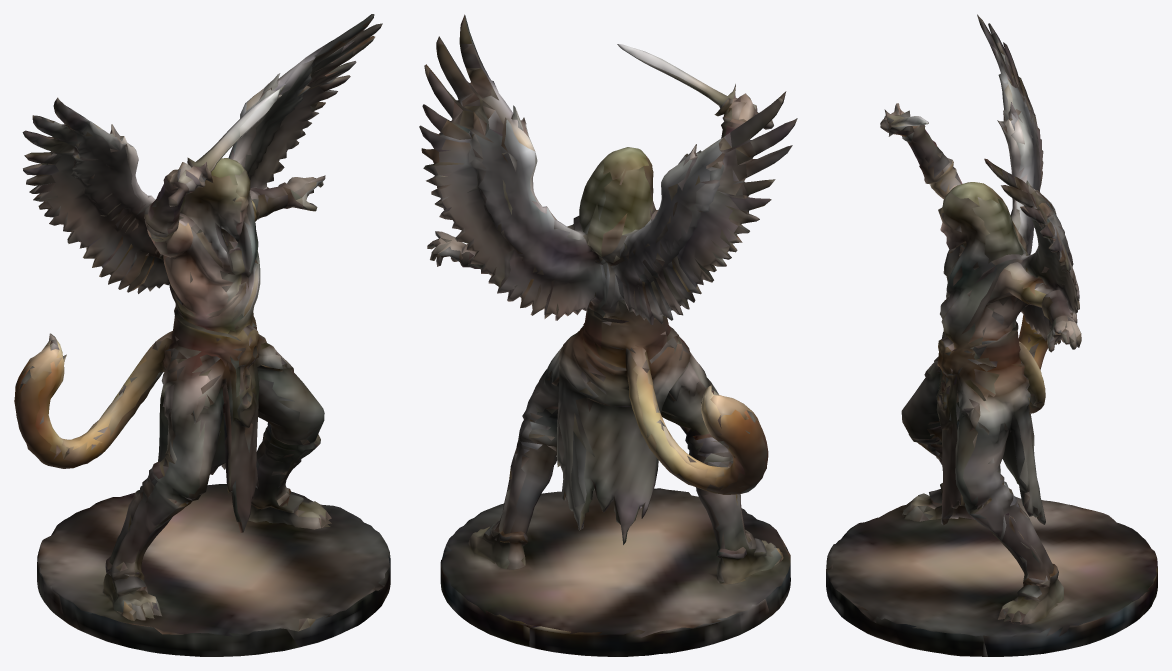
Rendered from Userib_final.glb.
The picture shows the model from 3 angles, left to right: view 1: azimuth 30°, elevation 25°; view 2: azimuth 150°, elevation 25°; view 3: azimuth 270°, elevation 25°; orthographic projection. The views are drawn at different scales.
Parts seen in each view (by area): view 1: Mesh_0; view 2: Mesh_0; view 3: Mesh_0.
Part boxes in pixels (<box>): Mesh_0: <box>14,14,390,656</box>; Mesh_0: <box>419,14,797,656</box>; Mesh_0: <box>826,14,1157,656</box>.
Bounding box in the file's own units: 1.42 × 2 × 1.2.
1 material, 1 textured.
